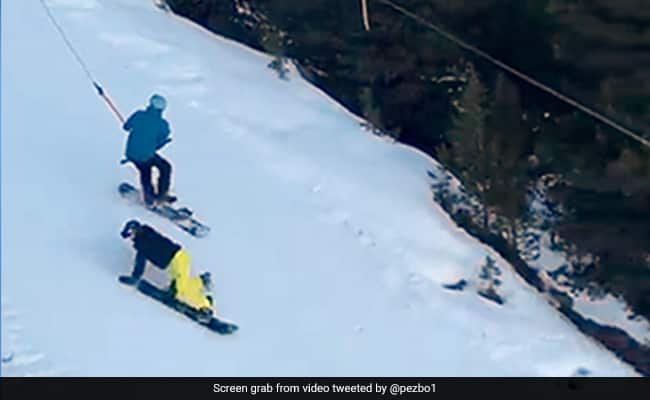snowboarder: (111, 221, 241, 336), (119, 95, 213, 236)
